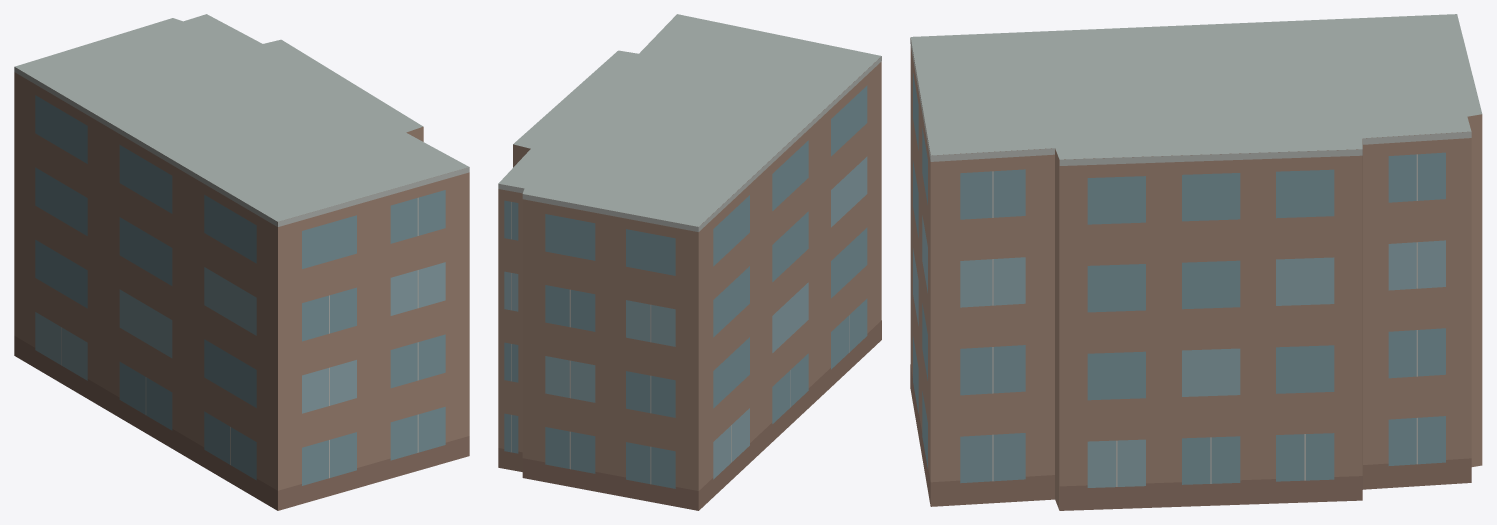
Rendered from survey-upis-32638814.glb.
3 renders of one model, left to right at view 1: azimuth 30°, elevation 25°; view 2: azimuth 150°, elevation 25°; view 3: azimuth 270°, elevation 25°, orthographic. The views are drawn at different scales.
Visible parts, largest first — view 1: survey-upis-32638814.tmp; view 2: survey-upis-32638814.tmp; view 3: survey-upis-32638814.tmp.
Boxes of the visible parts, box(x1,y1,x2,y2) form: survey-upis-32638814.tmp: box(14, 14, 469, 510); survey-upis-32638814.tmp: box(498, 14, 881, 510); survey-upis-32638814.tmp: box(910, 14, 1482, 510).
Bounding box in the file's own units: 11.74 × 13.2 × 19.49.
